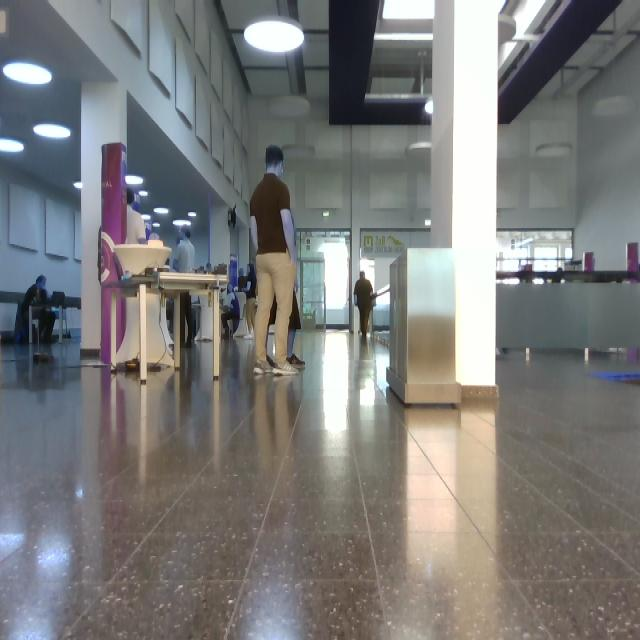door: (300, 258, 325, 329)
light bulb: (500, 1, 550, 52), (376, 1, 435, 42), (245, 16, 304, 54), (3, 62, 51, 85), (34, 124, 71, 140), (1, 138, 24, 152), (127, 176, 144, 185), (425, 97, 433, 116), (74, 181, 81, 190), (189, 212, 196, 217)
person: (251, 146, 298, 376), (17, 276, 56, 344), (239, 264, 257, 337), (354, 272, 373, 338)
pillar: (432, 1, 500, 390), (82, 84, 127, 350)
table: (102, 233, 227, 384)
tiled floor: (1, 334, 640, 640)
trash bin: (388, 249, 460, 404)
